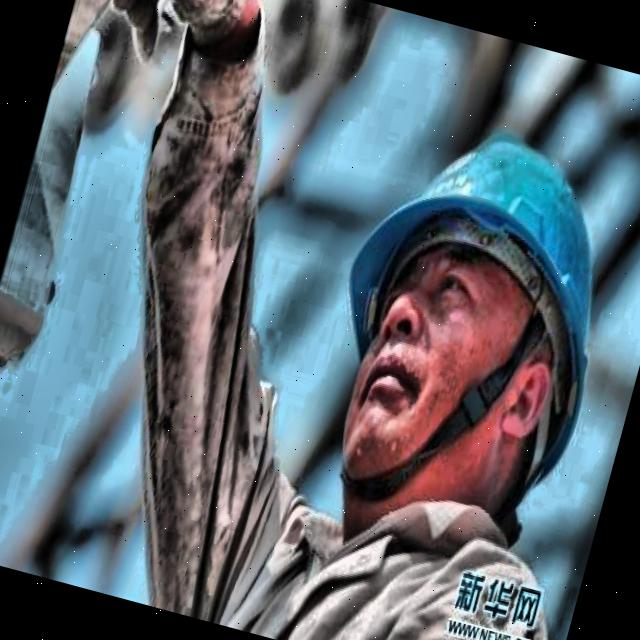helmet: (272, 62, 640, 593)
